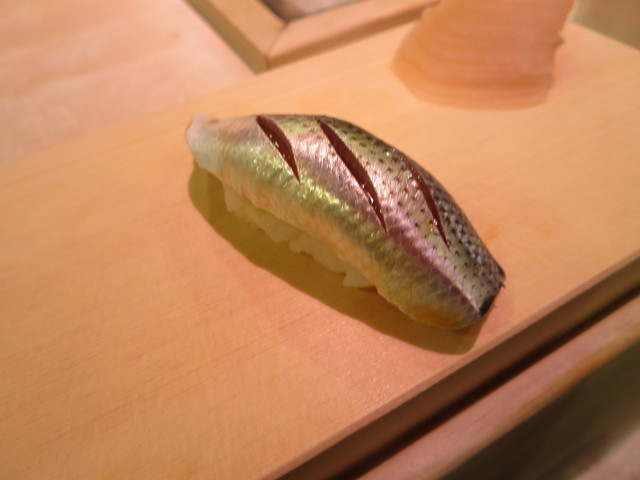spotted-shad: (184, 100, 509, 340)
